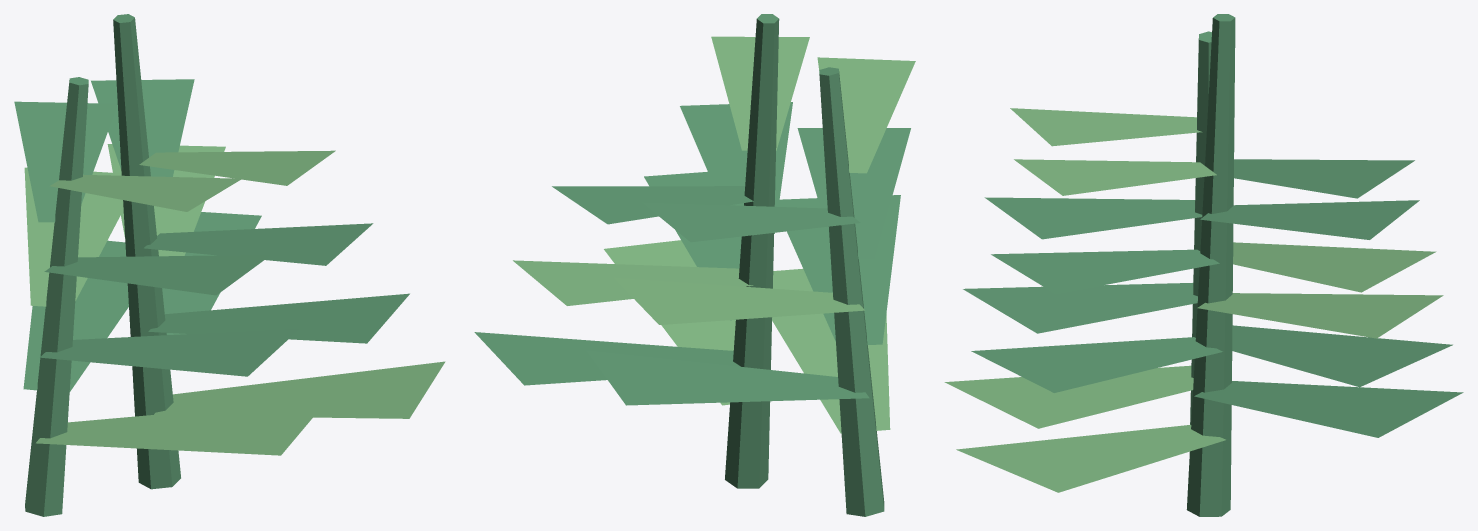
File: myb_forest_fern_b.fbx
3 views of the same model, side by side, from view 1: azimuth 30°, elevation 25°; view 2: azimuth 150°, elevation 25°; view 3: azimuth 270°, elevation 25° (orthographic). The views are drawn at different scales.
Parts seen in each view (by area): view 1: myb_forest_fern_b; view 2: myb_forest_fern_b; view 3: myb_forest_fern_b.
Part boxes in pixels (x1,y1,x2,y2): myb_forest_fern_b: (14,14,445,516); myb_forest_fern_b: (474,14,915,516); myb_forest_fern_b: (944,14,1463,516).
Size of the model in its own units: 0.538 by 0.6888 by 0.675.
